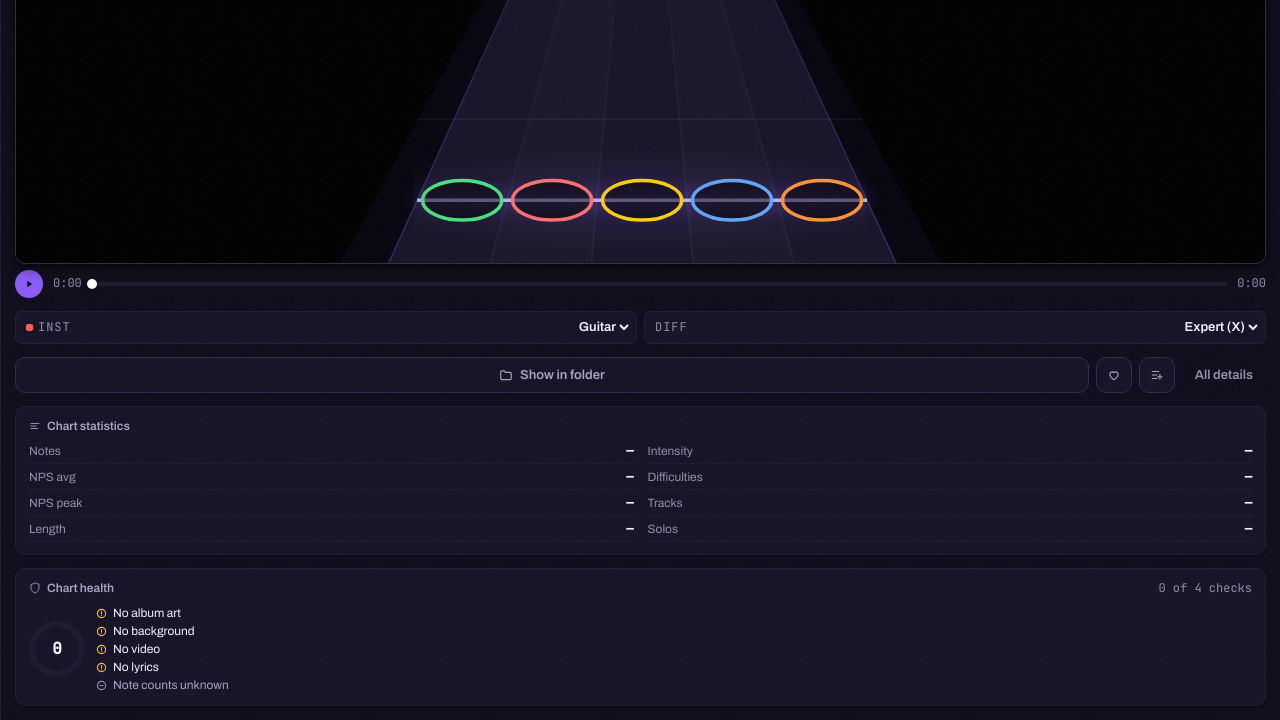
it: Rail: the heart › says why a heart was refused, where the user pressed it
This screenshot has width=1280, height=720.
(page scrolled)
Click the button named "Favourite". click: click(1114, 375)
box: x1=1096 y1=357 x2=1132 y2=393
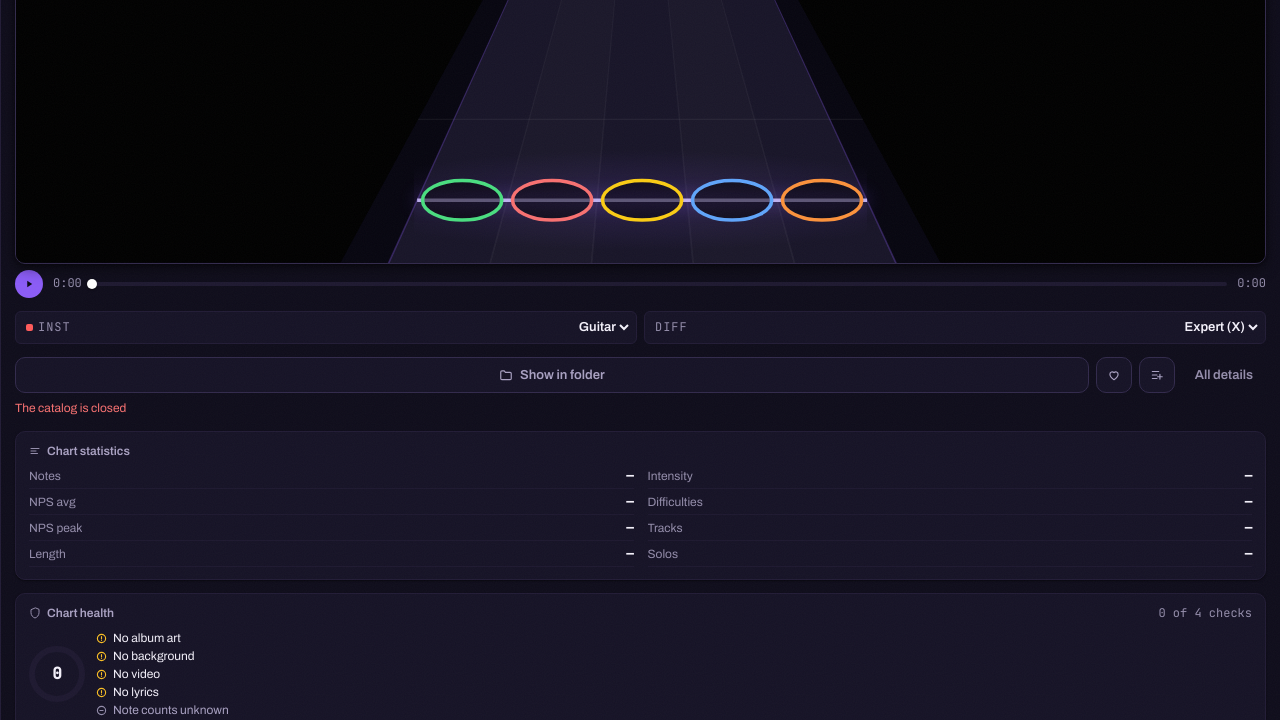
Now the message reads "The catalog is closed", box x1=15 y1=401 x2=126 y2=415
